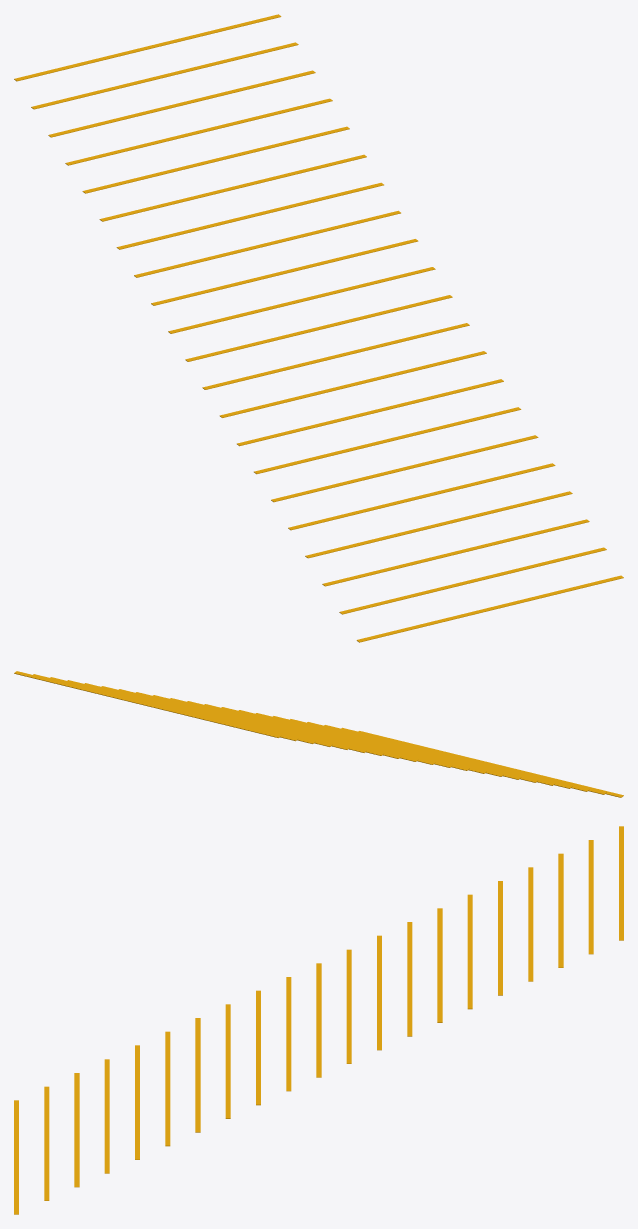
Rendered from gteki_ik_stair_n21_r164_t328_w2942_nosing.glb.
The picture shows the model from 3 angles, top to bottom: view 1: azimuth 30°, elevation 25°; view 2: azimuth 150°, elevation 25°; view 3: azimuth 270°, elevation 25°; orthographic projection. The views are drawn at different scales.
Parts seen in each view (by area): view 1: VIS_body; view 2: VIS_body; view 3: VIS_body.
Part boxes in pixels (left/top/right/bottom): VIS_body: left=14, top=14, right=623, bottom=642; VIS_body: left=14, top=671, right=623, bottom=797; VIS_body: left=14, top=826, right=623, bottom=1214.
Bounding box in the file's own units: 2.93 × 3.29 × 6.62.
1 material, 1 textured.
